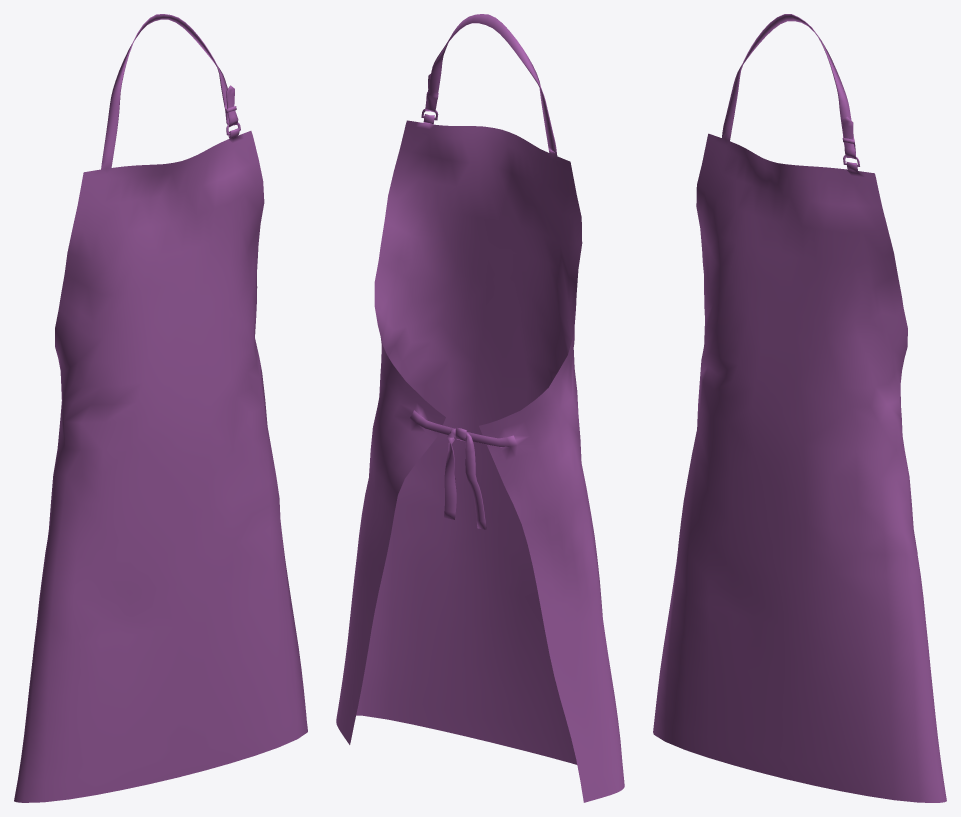
Rendered from seguranca-obj_avental.fbx.
The picture shows the model from 3 angles, left to right: view 1: azimuth 30°, elevation 25°; view 2: azimuth 150°, elevation 25°; view 3: azimuth 330°, elevation 25°; orthographic projection. The views are drawn at different scales.
Visible parts, largest first — view 1: avental:Avental1; view 2: avental:Avental1; view 3: avental:Avental1.
Part boxes in pixels (x1,y1,x2,y2): avental:Avental1: (14, 14, 307, 802); avental:Avental1: (336, 14, 624, 802); avental:Avental1: (653, 14, 946, 802).
Bounding box in the file's own units: 11.59 × 29.04 × 3.06.
